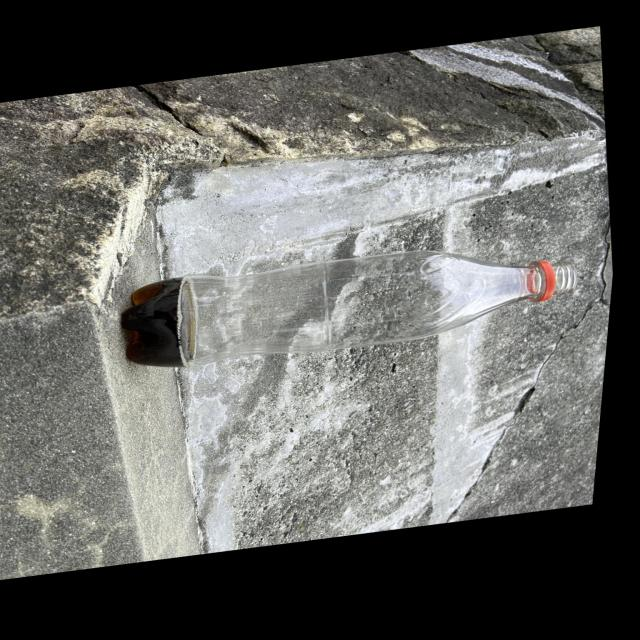low: (122, 251, 575, 366)
